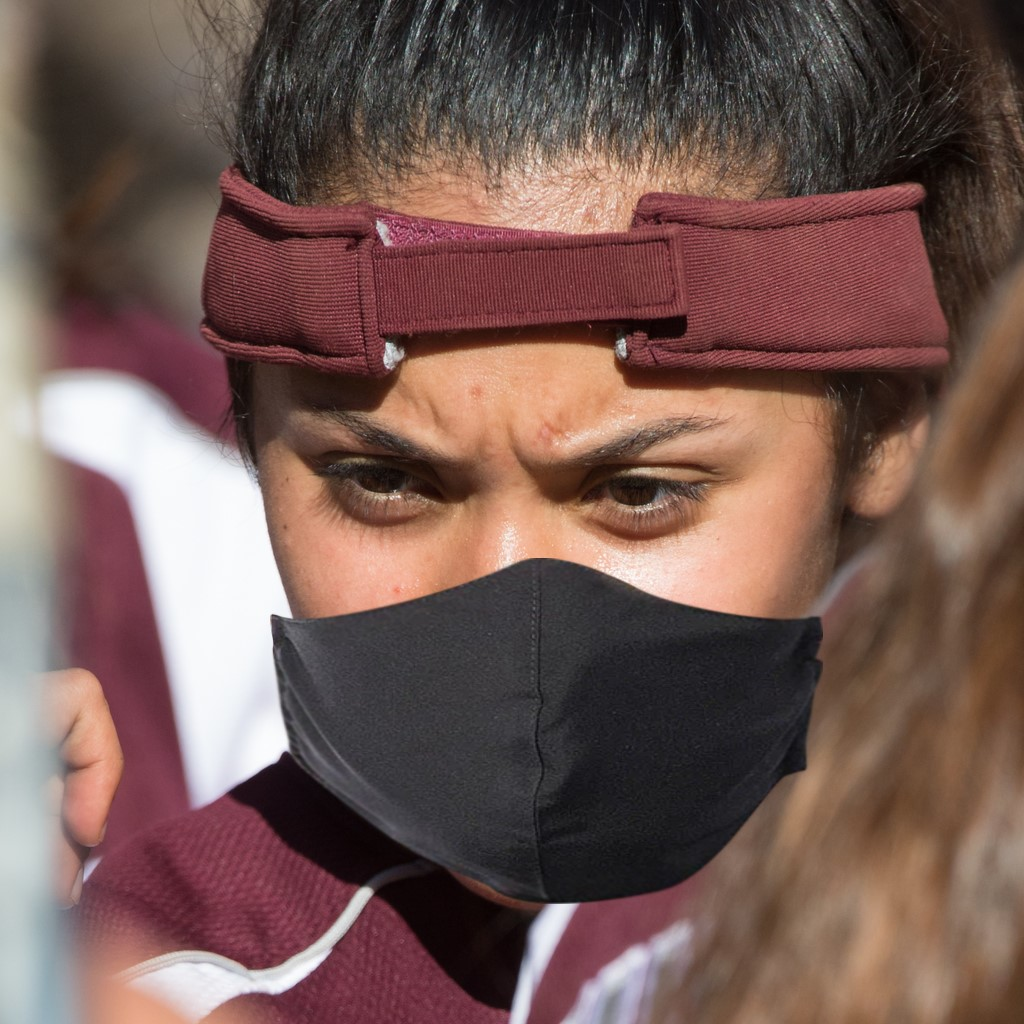con_mascara: (230, 106, 893, 916)
